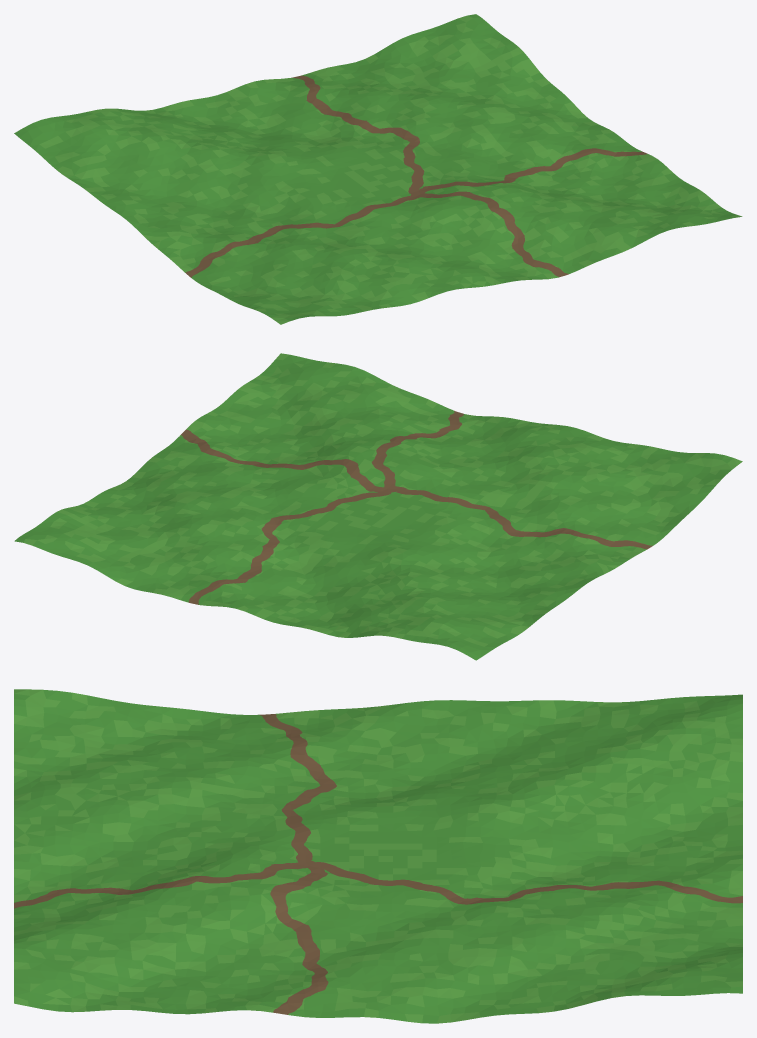
File: terrain_01.glb
3 views of the same model, one above another, from view 1: azimuth 30°, elevation 25°; view 2: azimuth 150°, elevation 25°; view 3: azimuth 270°, elevation 25° (orthographic). The views are drawn at different scales.
Visible parts, largest first — view 1: terrain_01-col; view 2: terrain_01-col; view 3: terrain_01-col.
Boxes of the visible parts, box(x1,y1,x2,y2) form: terrain_01-col: box(14, 14, 742, 324); terrain_01-col: box(14, 353, 742, 660); terrain_01-col: box(14, 689, 742, 1023).
Bounding box in the file's own units: 100 × 4.99 × 100.
